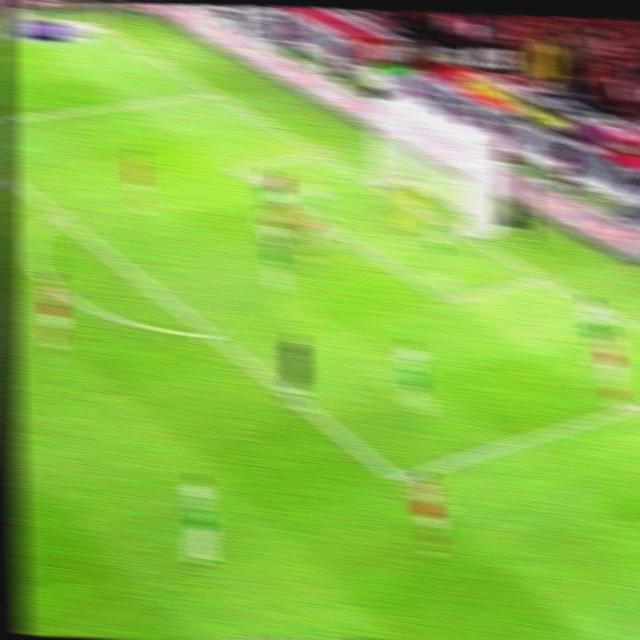bigarea_bottom_inner: (382, 461, 413, 496)
bigarea_top_outter: (204, 85, 225, 100)
bottom_arc_area_intersection: (198, 320, 225, 347)
corner: (88, 20, 116, 33)
smallarea_bottom_inner: (434, 285, 462, 312)
smallarea_bottom_outter: (532, 266, 556, 287)
smallarea_top_inner: (226, 158, 247, 177)
smallarea_top_outter: (310, 144, 332, 161)
top_arc_area_intersection: (47, 204, 68, 222)
